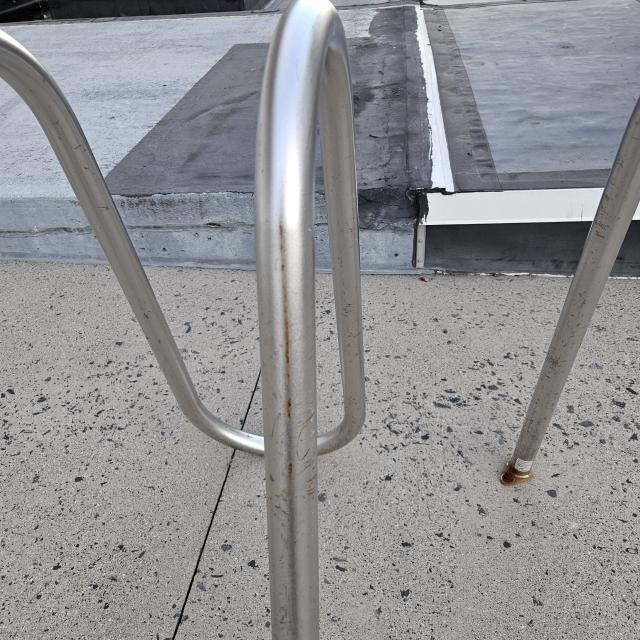Uniform Corrosion: (501, 462, 534, 489)
